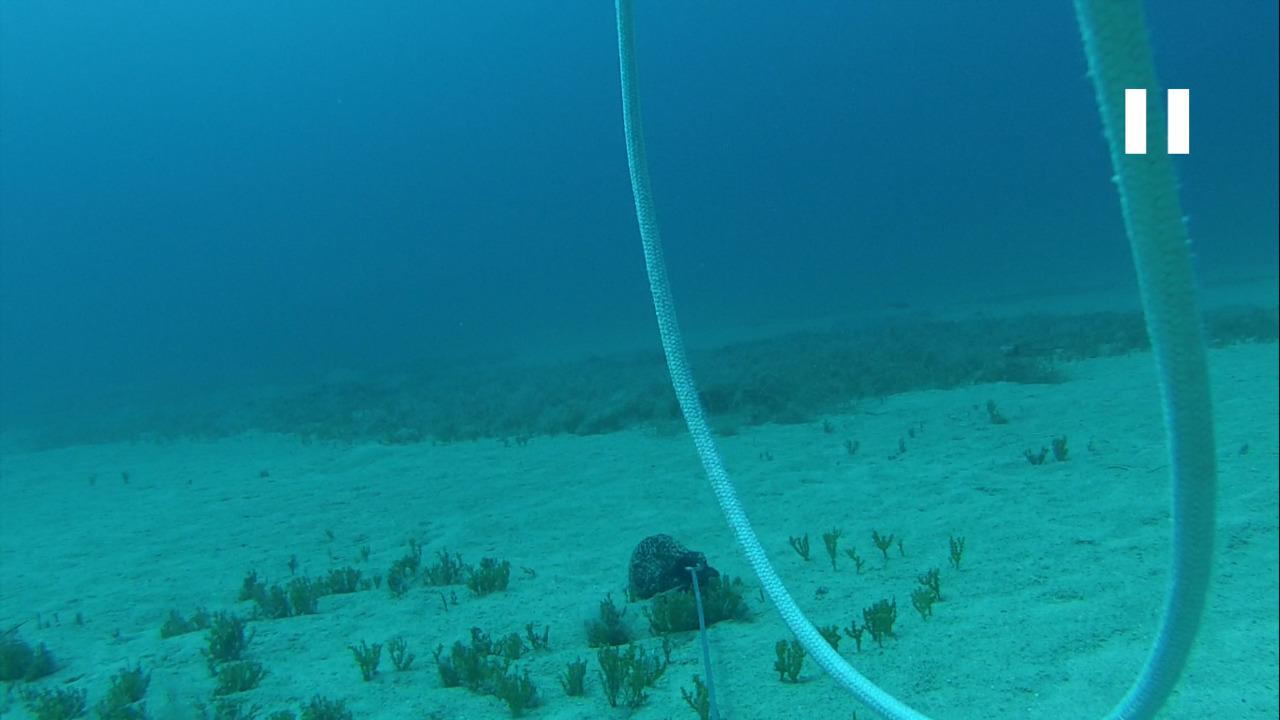dactylopterus: (984, 336, 1040, 367)
